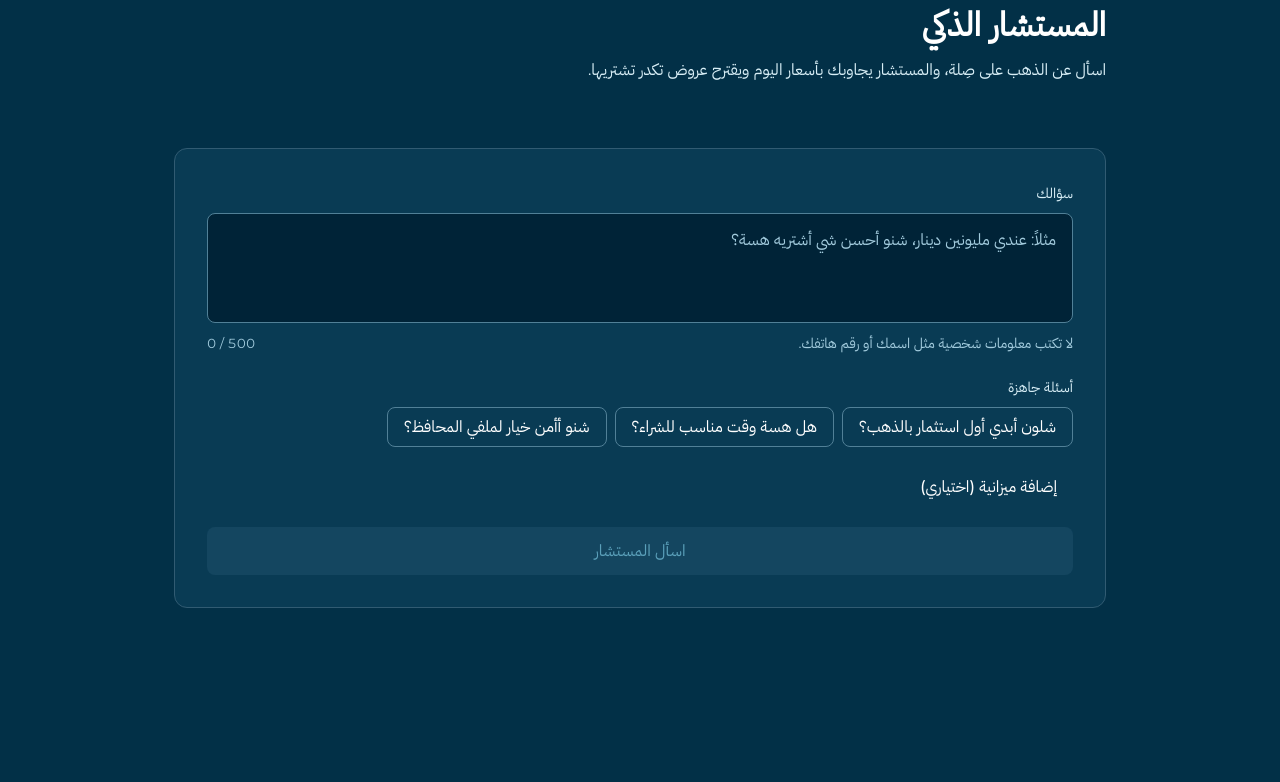
Test case: AdvisorPage › shows the answer, the simplified-answer note, the offers and the disclaimer
The width and height of the screenshot is (1280, 782).
Type "شنو أحسن شي أشتريه؟" into the text box labelled "سؤالك" at [640, 268], box x1=207 y1=213 x2=1073 y2=323
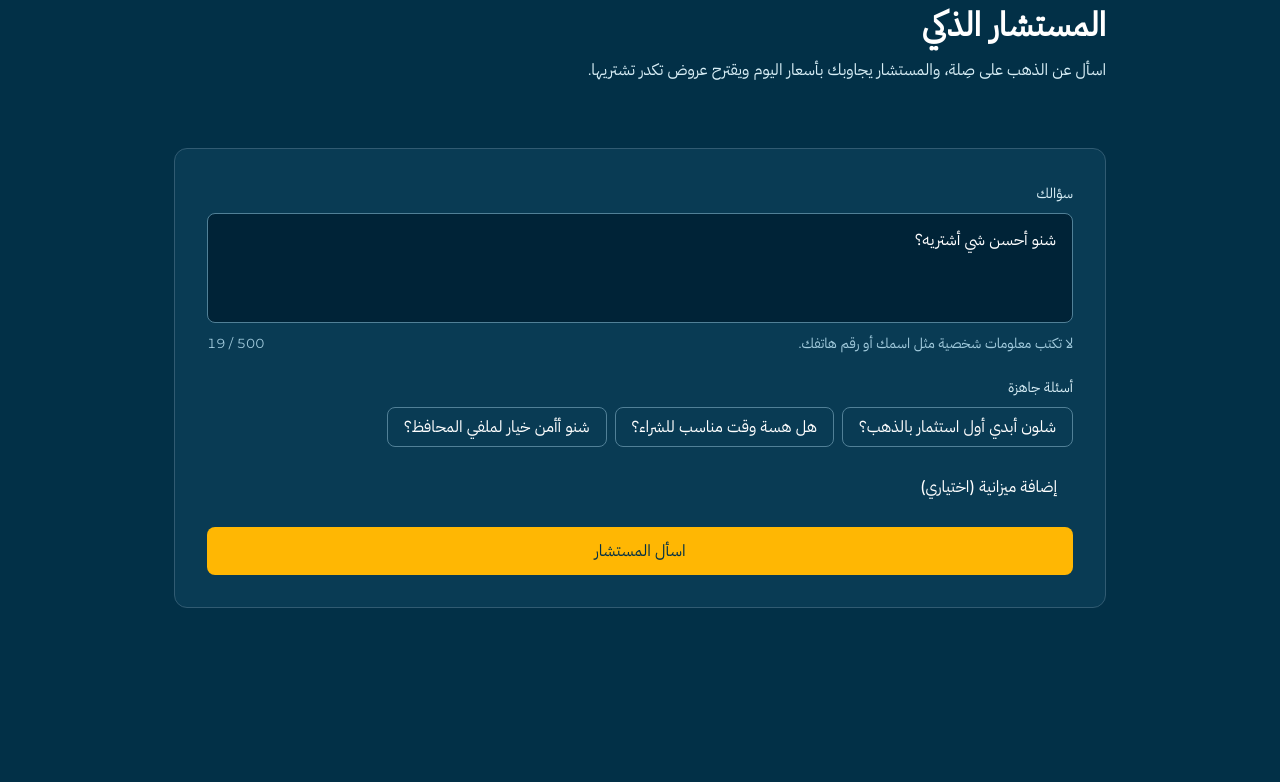
Click the button "اسأل المستشار" at [640, 551], box x1=207 y1=527 x2=1073 y2=575
(page scrolled)
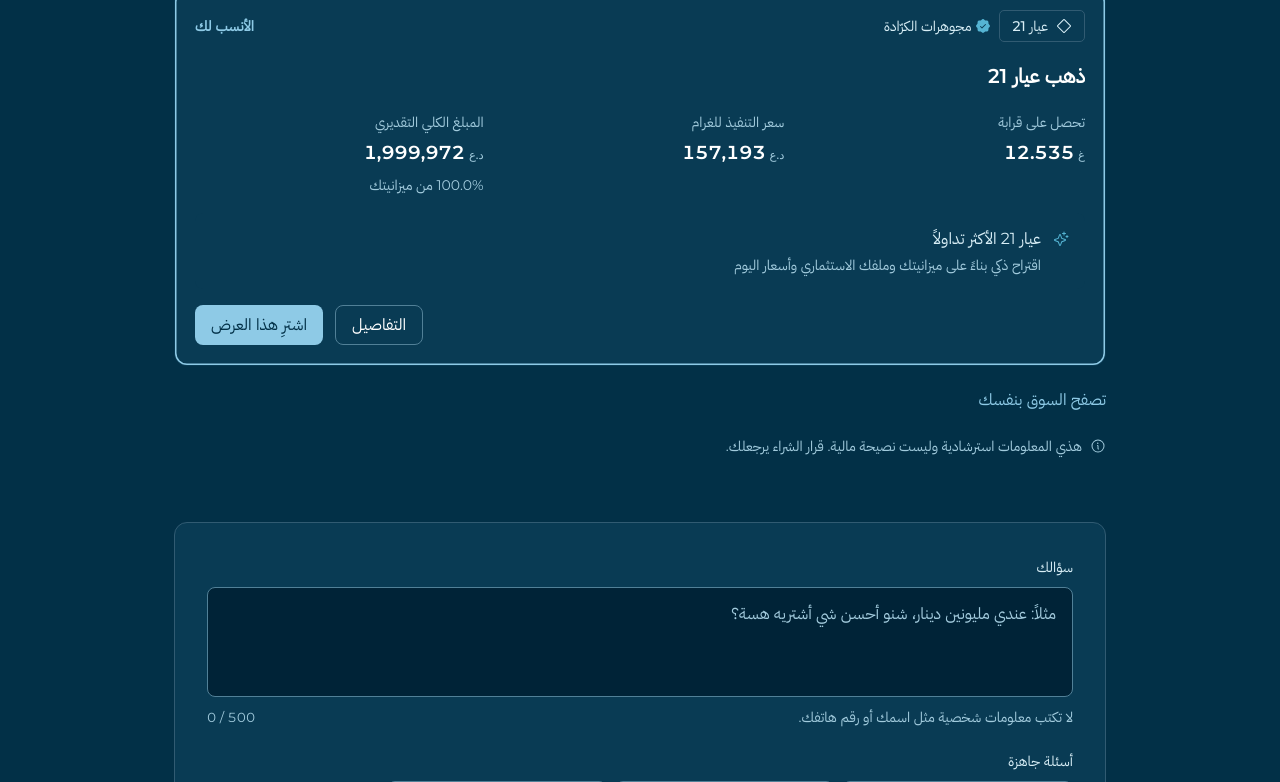
Result: the button "اشترِ هذا العرض" is shown at x1=195 y1=305 x2=323 y2=345
Result: the text "هذي المعلومات استرشادية وليست نصيحة مالية. قرار الشراء يرجعلك." is shown at x1=726 y1=437 x2=1106 y2=455
